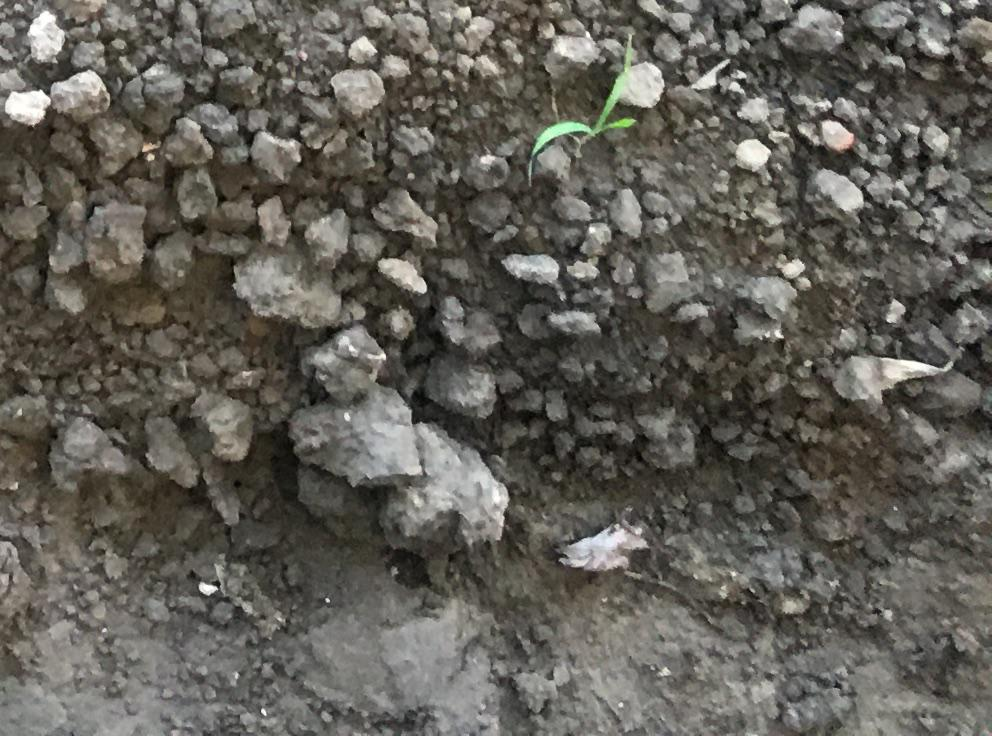block: (383, 423, 513, 558), (284, 388, 421, 487), (230, 238, 345, 328), (309, 329, 389, 400)
